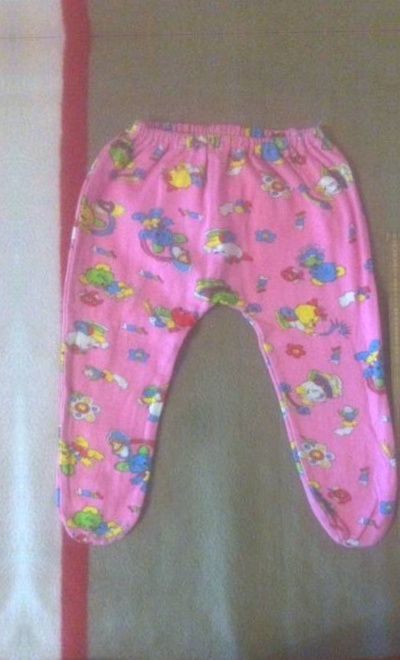Pants: (24, 89, 400, 595), (0, 97, 12, 603), (392, 82, 400, 588)
